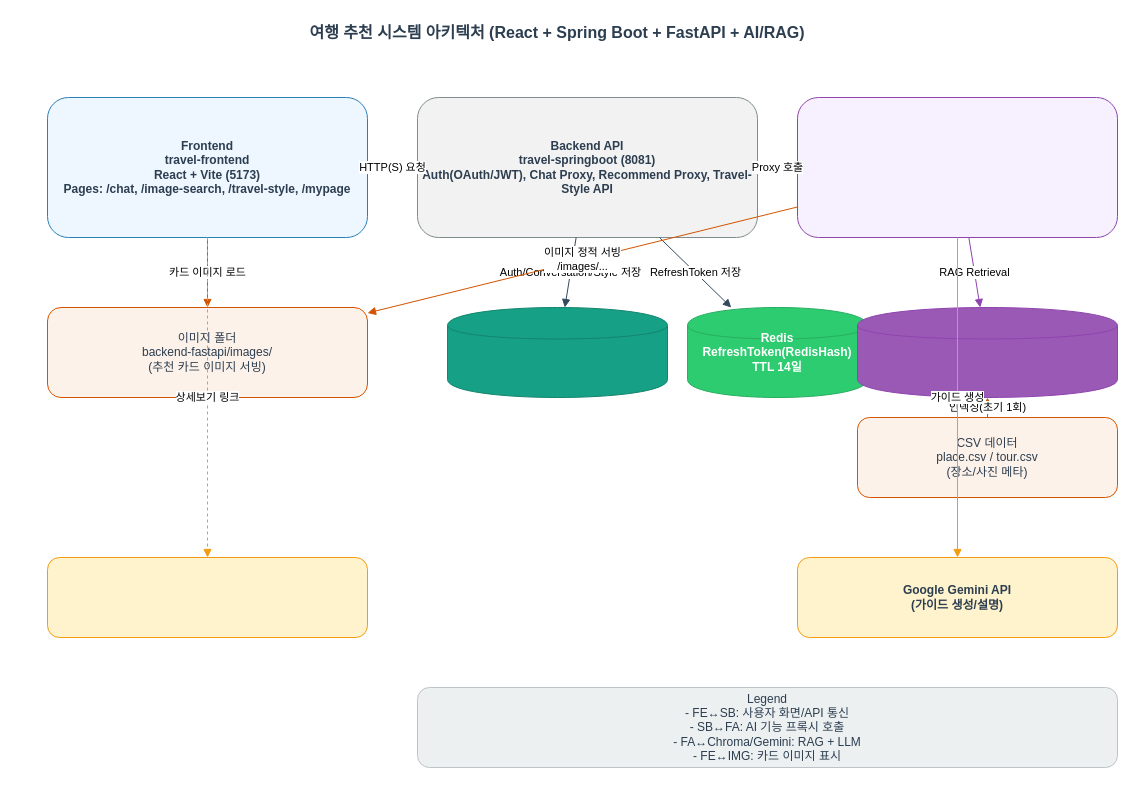
The diagram is 1135 pixels wide and 785 high, and some of its shapes have lost their labels. Here are the shapes that lost their labels. From the top down, the centre of each, then its label:
(957,167): AI Server backend-fastapi (8000) Image Recommend, Travel-Chat, Travel-Style 분석
(557,352): MariaDB users / saved_conversations / travel_style_results
(987,352): ChromaDB (Vector DB) backend-fastapi/chroma_db/ place 문서 청크 임베딩
(207,597): Naver Map (상세보기 링크)
